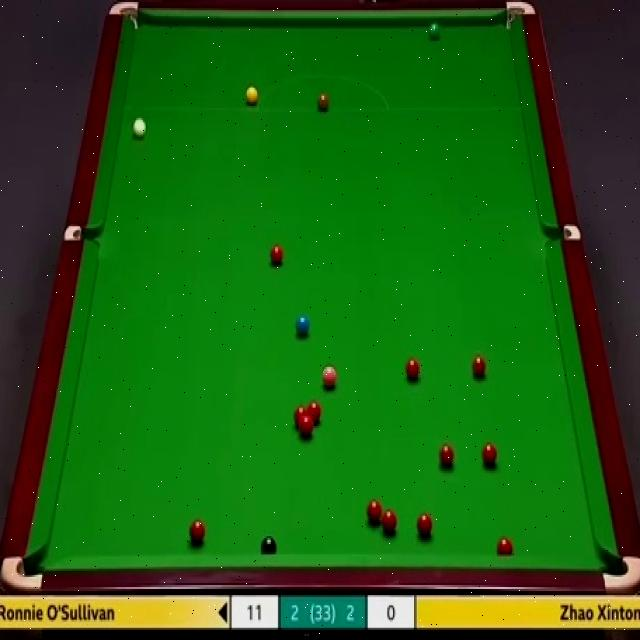black-ball: (260, 532, 278, 556)
blue-ball: (294, 314, 310, 339)
brown-ball: (315, 90, 330, 113)
green-ball: (426, 21, 442, 41)
pink-ball: (322, 361, 338, 389)
red-ball: (381, 507, 398, 538), (404, 356, 421, 385), (366, 498, 383, 525), (416, 512, 432, 540), (480, 441, 496, 467), (190, 518, 206, 544), (438, 443, 454, 468), (472, 354, 487, 380), (497, 535, 514, 556), (308, 402, 322, 426), (270, 244, 284, 267), (294, 405, 307, 426), (300, 418, 313, 438)
white-ball: (130, 116, 146, 142)
yellow-ball: (244, 85, 258, 105)
